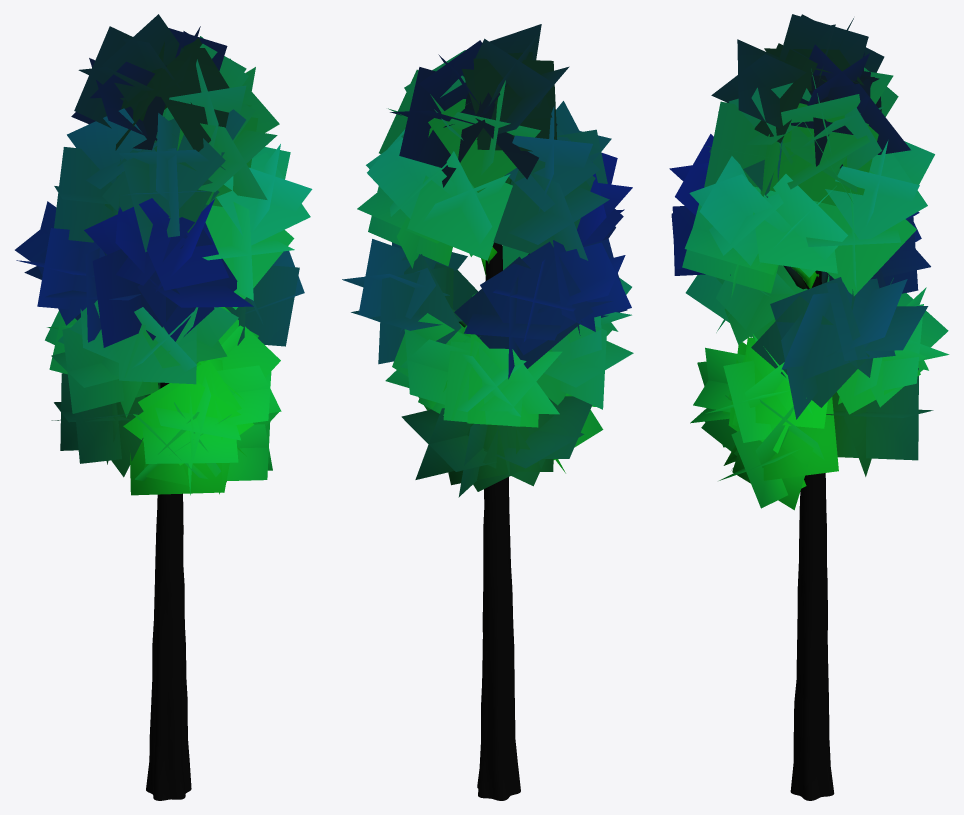
Rendered from Tree_Pine2.fbx.
The picture shows the model from 3 angles, left to right: view 1: azimuth 30°, elevation 25°; view 2: azimuth 150°, elevation 25°; view 3: azimuth 270°, elevation 25°; orthographic projection.
Visible parts, largest first — view 1: Tree_1, Tree_0; view 2: Tree_1, Tree_0; view 3: Tree_1, Tree_0.
Boxes of the visible parts, box(x1,y1,x2,y2) form: Tree_1: box(15, 14, 312, 495); Tree_0: box(146, 382, 191, 800); Tree_1: box(342, 24, 633, 497); Tree_0: box(451, 177, 529, 800); Tree_1: box(669, 14, 949, 510); Tree_0: box(783, 265, 834, 800).
Size of the model in its own units: 517 by 1424 by 473.
